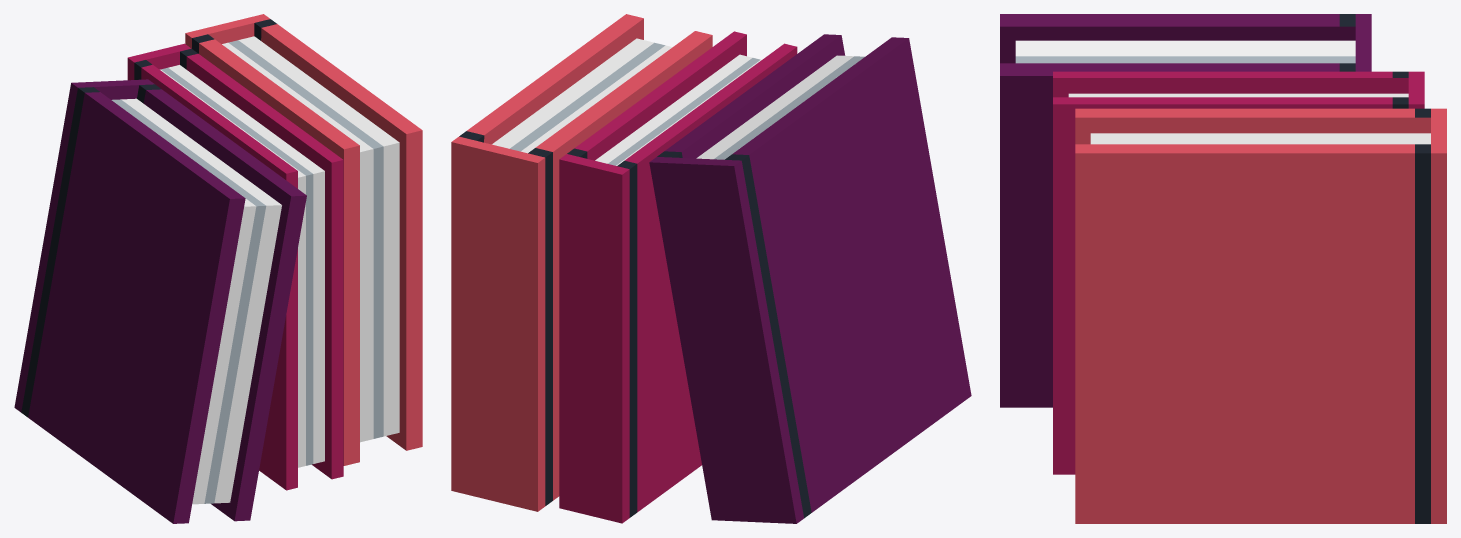
Rendered from Book_Bunch01.fbx.
3 renders of one model, left to right at view 1: azimuth 30°, elevation 25°; view 2: azimuth 150°, elevation 25°; view 3: azimuth 270°, elevation 25°, orthographic. The views are drawn at different scales.
Parts seen in each view (by area): view 1: Cube.264; view 2: Cube.264; view 3: Cube.264.
Boxes of the visible parts, box(x1,y1,x2,y2) form: Cube.264: box(14, 14, 422, 523); Cube.264: box(451, 14, 971, 523); Cube.264: box(1000, 14, 1446, 523).
Bounding box in the file's own units: 31.34 × 34.83 × 36.82.
